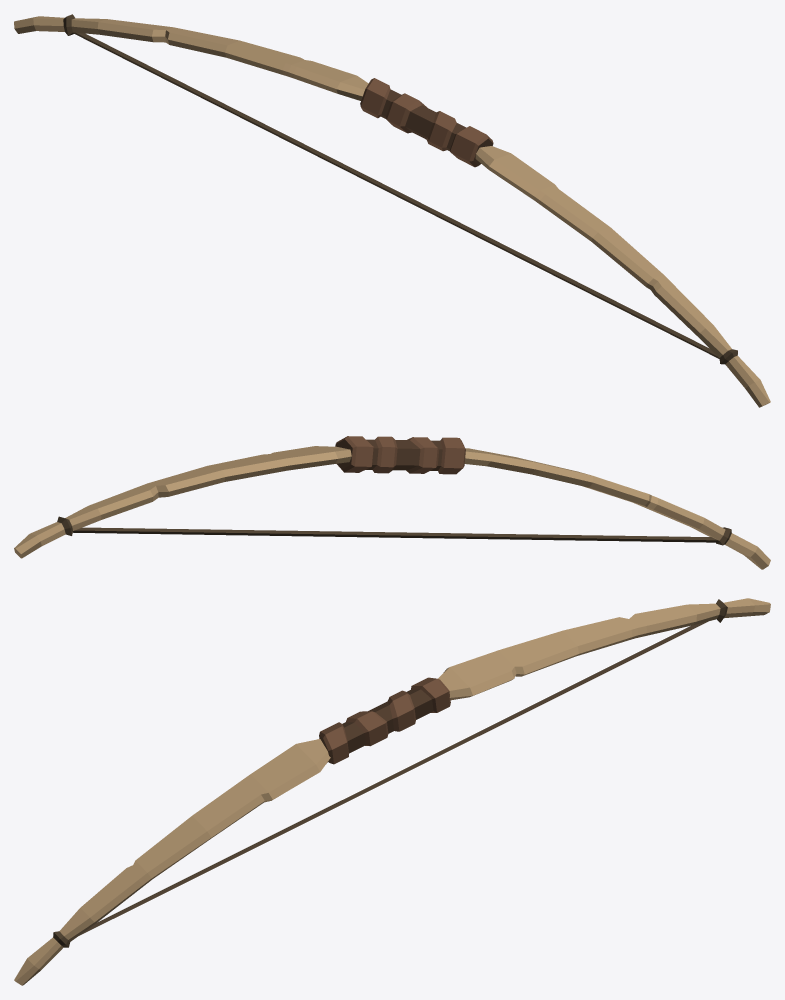
File: fk-bow-02.glb
The picture shows the model from 3 angles, top to bottom: view 1: azimuth 90°, elevation 25°; view 2: azimuth 150°, elevation 25°; view 3: azimuth 330°, elevation 25°; orthographic projection.
Parts seen in each view (by area): view 1: fk-bow-02; view 2: fk-bow-02; view 3: fk-bow-02.
Part boxes in pixels (x1,y1,x2,y2): fk-bow-02: (14,14,770,407); fk-bow-02: (14,436,770,569); fk-bow-02: (14,598,770,985).
Size of the model in its own units: 0.7194 by 0.4064 by 1.22.
1 material, 1 textured.
